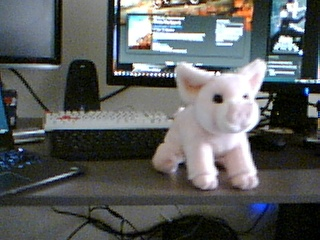piggy: (150, 57, 268, 192)
